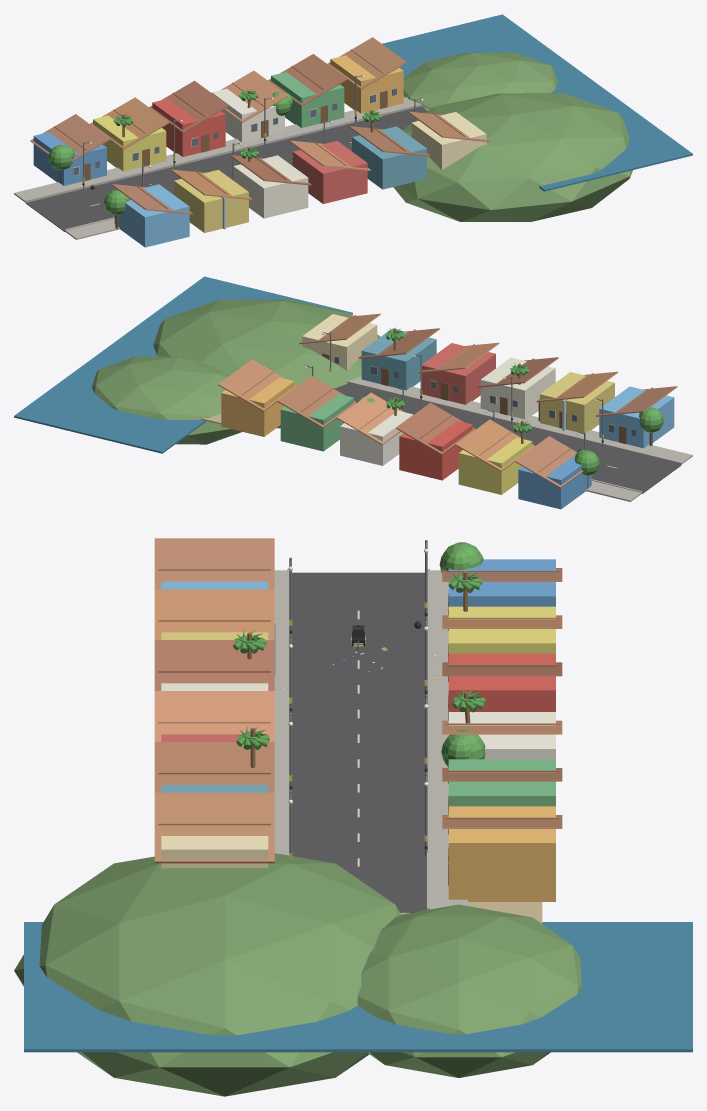
The model's file is Robot_Limpiador_Cienaga.glb.
3 views of the same model, one above another, from view 1: azimuth 30°, elevation 25°; view 2: azimuth 150°, elevation 25°; view 3: azimuth 270°, elevation 25° (orthographic). The views are drawn at different scales.
Visible parts, largest first — view 1: Colina_1, Mar_Caribe, Calle_Asfalto, Colina_2, Casa_Sur_3_Cuerpo, Casa_Sur_4_Cuerpo, Casa_Sur_5_Cuerpo, Casa_Sur_1_Cuerpo, Casa_Sur_2_Cuerpo, Anden_Izquierdo, Casa_Norte_3_Cuerpo, Casa_Norte_6_Cuerpo (+21 smaller); view 2: Colina_1, Mar_Caribe, Colina_2, Calle_Asfalto, Casa_Sur_4_Cuerpo, Casa_Norte_3_Cuerpo, Casa_Norte_6_Cuerpo, Casa_Sur_3_Cuerpo, Casa_Sur_2_Cuerpo, Casa_Norte_2_Cuerpo, Casa_Norte_5_Cuerpo, Casa_Sur_5_Cuerpo (+21 smaller); view 3: Colina_1, Calle_Asfalto, Mar_Caribe, Colina_2, Casa_Norte_6_Cuerpo, Casa_Sur_6_Techo, Anden_Izquierdo, Casa_Sur_1_Techo, Casa_Sur_2_Techo, Casa_Sur_4_Techo, Casa_Sur_5_Techo, Casa_Sur_3_Techo (+19 smaller).
Part boxes in pixels (x1,y1,x2,y2): Colina_1: [393, 93, 632, 221]; Mar_Caribe: [382, 14, 692, 191]; Calle_Asfalto: [25, 106, 427, 231]; Colina_2: [403, 52, 557, 109]; Casa_Sur_3_Cuerpo: [233, 155, 308, 218]; Casa_Sur_4_Cuerpo: [292, 141, 367, 203]; Casa_Sur_5_Cuerpo: [352, 126, 426, 189]; Casa_Sur_1_Cuerpo: [114, 184, 189, 247]; Casa_Sur_2_Cuerpo: [174, 170, 248, 232]; Anden_Izquierdo: [14, 97, 419, 202]; Casa_Norte_3_Cuerpo: [152, 99, 225, 156]; Casa_Norte_6_Cuerpo: [330, 55, 403, 113]; Colina_1: [153, 299, 380, 428]; Mar_Caribe: [14, 276, 352, 453]; Colina_2: [92, 356, 242, 444]; Calle_Asfalto: [334, 383, 681, 493]; Casa_Sur_4_Cuerpo: [422, 343, 495, 404]; Casa_Norte_3_Cuerpo: [399, 421, 472, 480]; Casa_Norte_6_Cuerpo: [221, 377, 294, 436]; Casa_Sur_3_Cuerpo: [480, 357, 555, 419]; Casa_Sur_2_Cuerpo: [540, 372, 614, 433]; Casa_Norte_2_Cuerpo: [458, 437, 532, 494]; Casa_Norte_5_Cuerpo: [280, 394, 353, 451]; Casa_Sur_5_Cuerpo: [361, 328, 436, 390]; Colina_1: [14, 853, 401, 1096]; Calle_Asfalto: [292, 572, 426, 912]; Mar_Caribe: [24, 922, 692, 1052]; Colina_2: [357, 904, 581, 1077]; Casa_Norte_6_Cuerpo: [448, 806, 555, 901]; Casa_Sur_6_Techo: [154, 792, 274, 863]; Anden_Izquierdo: [430, 570, 467, 909]; Casa_Sur_1_Techo: [154, 538, 274, 589]; Casa_Sur_2_Techo: [154, 589, 274, 639]; Casa_Sur_4_Techo: [154, 691, 274, 741]; Casa_Sur_5_Techo: [154, 742, 274, 792]; Casa_Sur_3_Techo: [154, 640, 274, 690].
Size of the model in its own units: 67 by 13.45 by 40.6.
